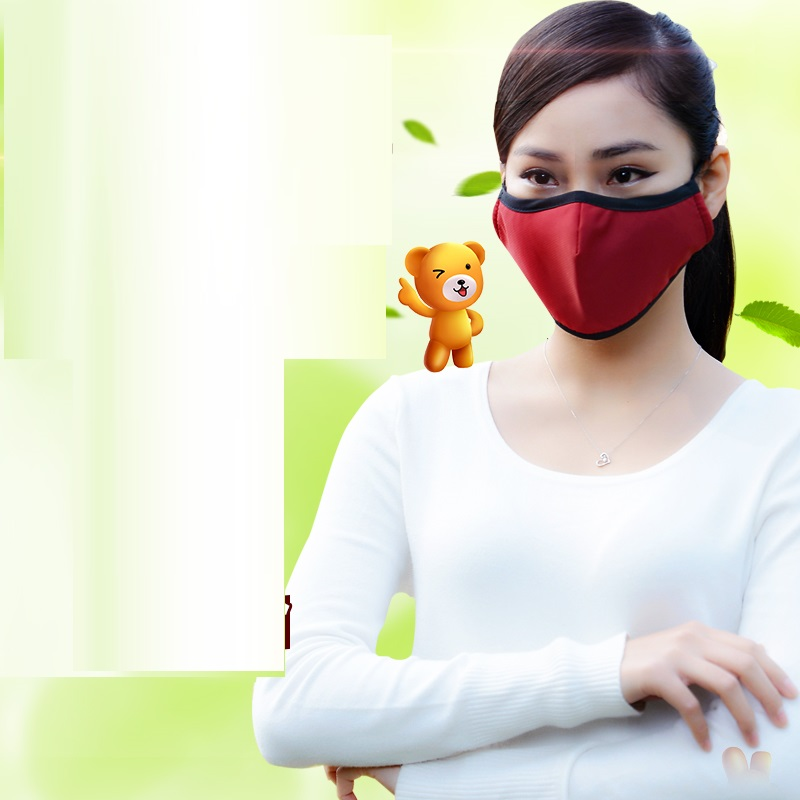face_mask: (498, 76, 698, 327)
